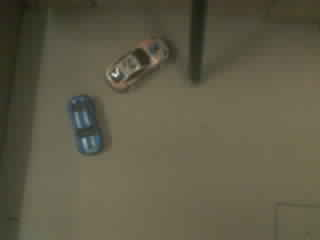Car: (106, 39, 168, 90), (68, 95, 102, 154)
